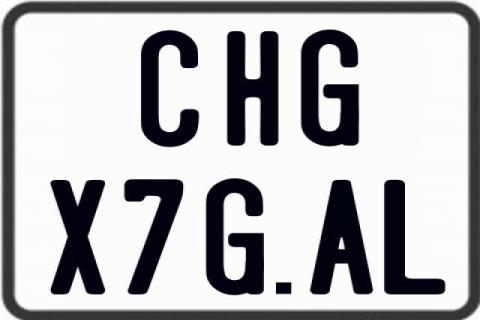0: (123, 178, 184, 298)
A: (309, 180, 376, 294)
C: (139, 29, 201, 150)
G: (298, 30, 362, 152), (203, 177, 264, 293)
H: (226, 30, 282, 146)
L: (382, 179, 448, 297)
X: (47, 178, 108, 292)
